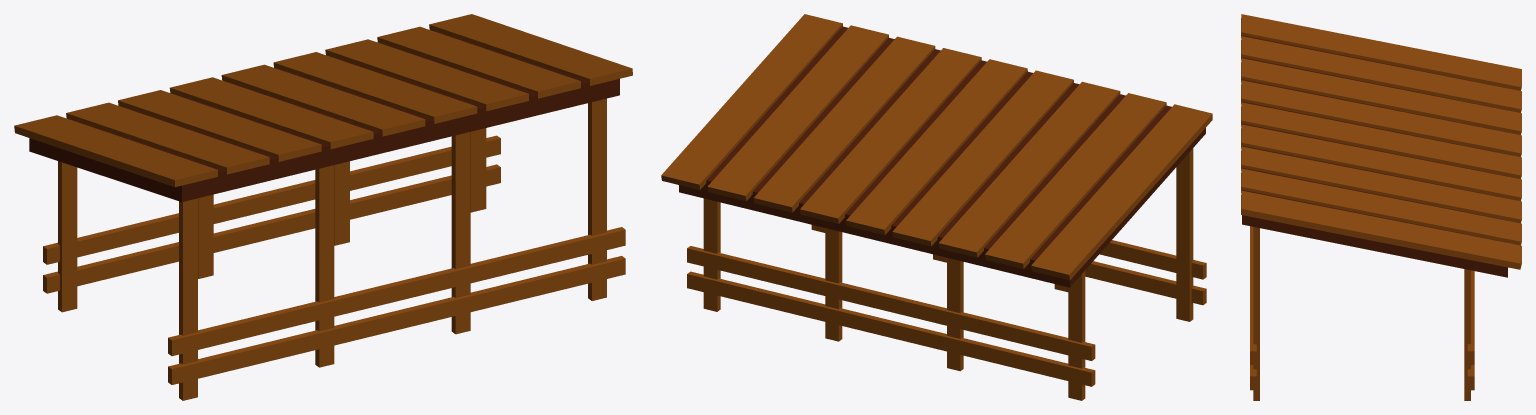
File: stall.glb
3 renders of one model, left to right at view 1: azimuth 30°, elevation 25°; view 2: azimuth 150°, elevation 25°; view 3: azimuth 270°, elevation 25°, orthographic. The views are drawn at different scales.
Parts seen in each view (by area): view 1: stall; view 2: stall; view 3: stall.
Part boxes in pixels (x1,y1,x2,y2): stall: [14, 14, 632, 400]; stall: [661, 14, 1212, 400]; stall: [1241, 14, 1521, 400].
Size of the model in its own units: 26.82 by 12.85 by 16.33.
1 material, 1 textured.
